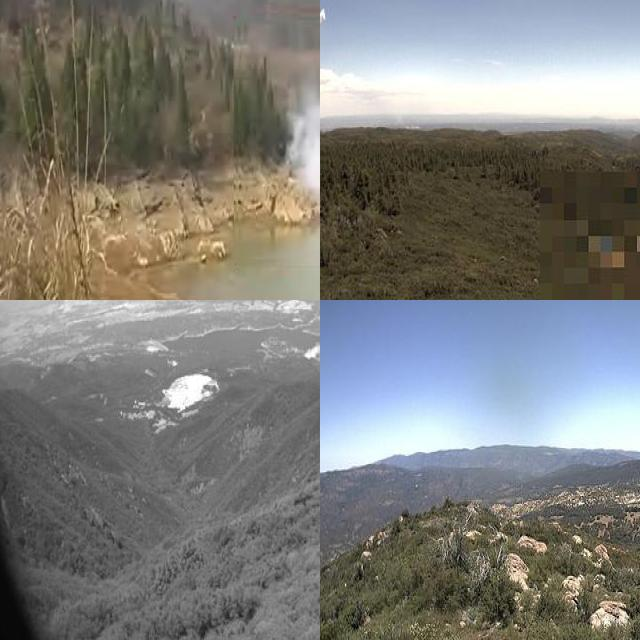smoke: (287, 82, 320, 214), (367, 86, 421, 130)
